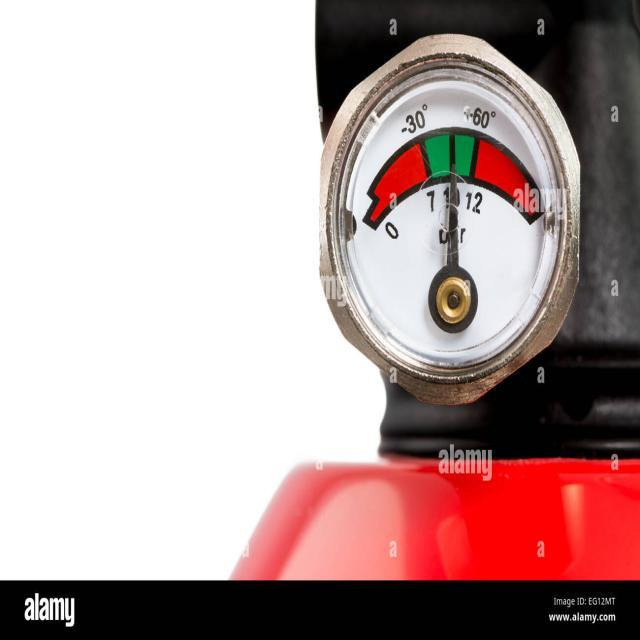pressure gauge: (321, 34, 578, 403)
